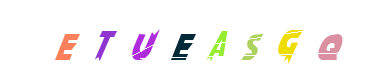A: (194, 0, 274, 80)
E: (26, 0, 106, 80), (154, 0, 234, 80)
G: (248, 0, 328, 80)
Q: (259, 0, 339, 80)
S: (199, 0, 279, 80)
T: (88, 0, 168, 80)
U: (142, 0, 222, 80)
